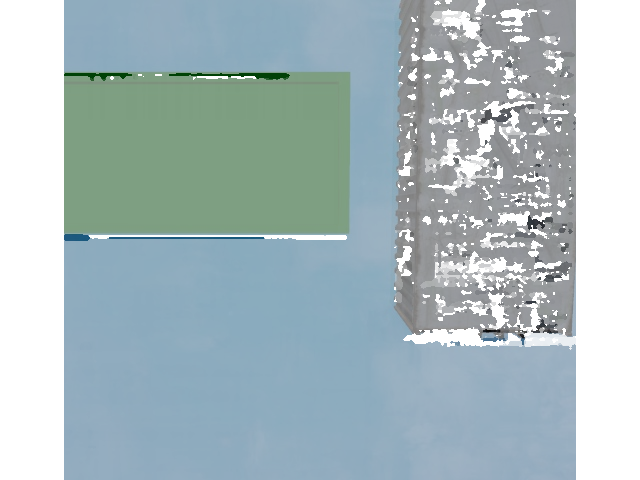container1: (391, 0, 595, 342)
container2: (15, 67, 355, 237)
